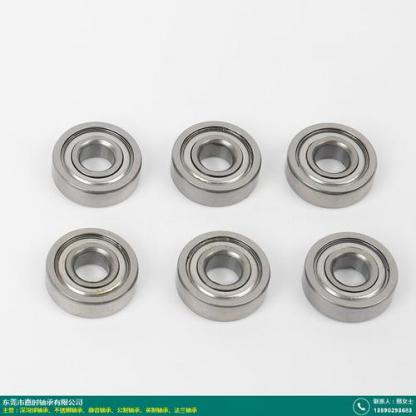FOD: (170, 227, 273, 325), (298, 228, 402, 325), (42, 223, 142, 321), (282, 119, 380, 210), (48, 119, 145, 210), (168, 118, 265, 209)
